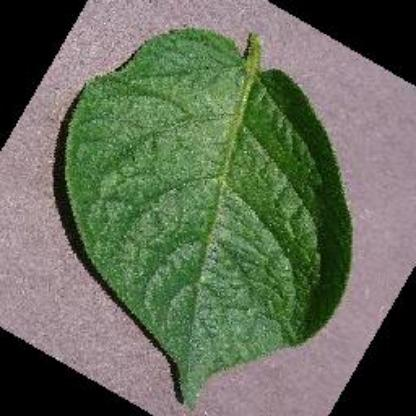Healthy-plant: (52, 24, 358, 404)
